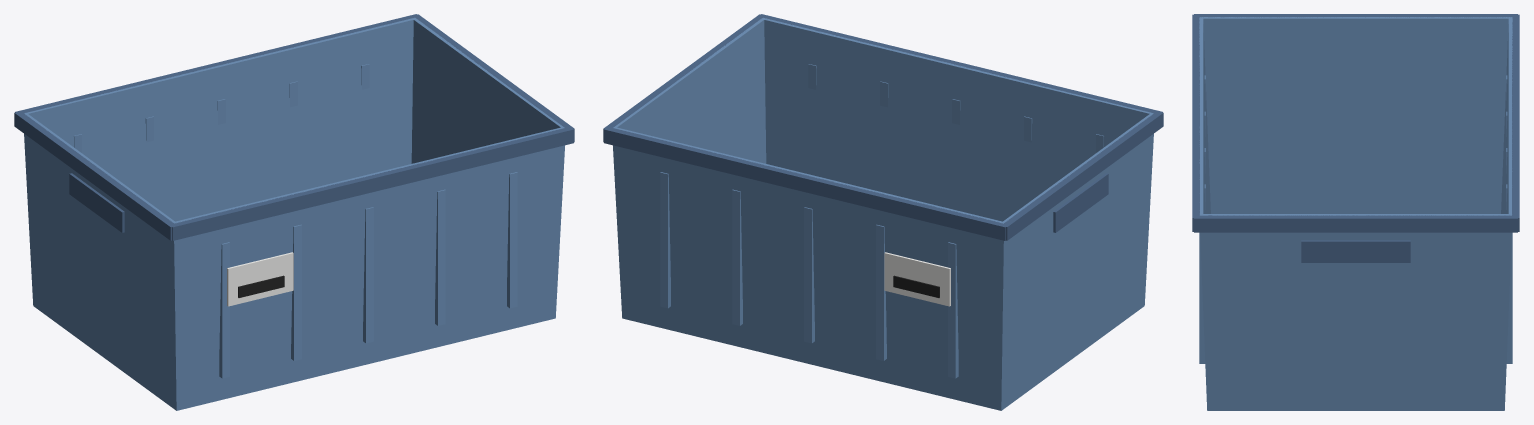
The model's file is shuttle_tote_v0.fbx.
The picture shows the model from 3 angles, left to right: view 1: azimuth 30°, elevation 25°; view 2: azimuth 150°, elevation 25°; view 3: azimuth 270°, elevation 25°; orthographic projection. The views are drawn at different scales.
Parts seen in each view (by area): view 1: ShuttleTote_v0; view 2: ShuttleTote_v0; view 3: ShuttleTote_v0.
Boxes of the visible parts, box(x1,y1,x2,y2) form: ShuttleTote_v0: box(14, 14, 574, 410); ShuttleTote_v0: box(603, 14, 1163, 410); ShuttleTote_v0: box(1192, 14, 1519, 410).
Bounding box in the file's own units: 0.618 × 0.28 × 0.418.
